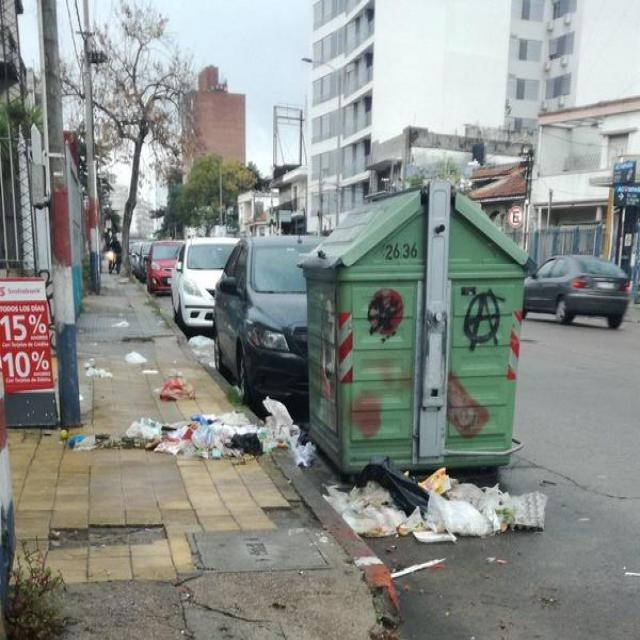garbage: (294, 453, 576, 537), (66, 401, 333, 464), (74, 346, 196, 398), (190, 324, 219, 366)
